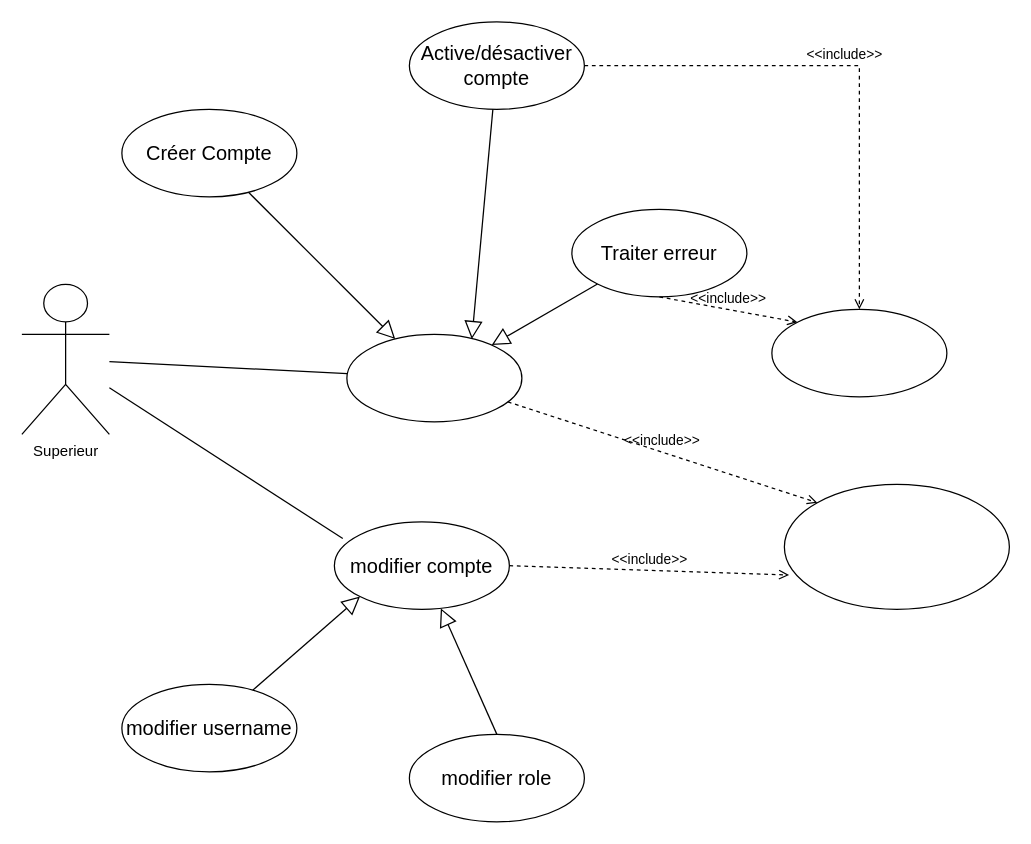
Image size: 1031x844. Some labels were removed from this diagram. Each missing label, with the centre of its shape:
"gérer les comptes" belongs at (x=434, y=377).
"recherche" belongs at (x=859, y=352).
"s'authentifier" belongs at (x=896, y=546).
